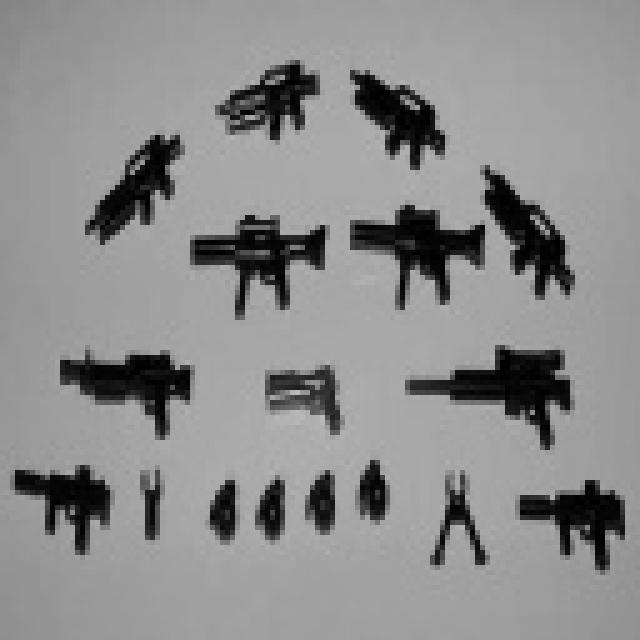Rifle: (314, 198, 504, 336), (177, 179, 341, 338), (463, 134, 599, 316), (39, 315, 221, 451), (384, 338, 594, 453), (326, 47, 472, 191), (0, 437, 129, 588), (70, 113, 194, 253), (490, 465, 640, 580), (200, 42, 338, 164), (256, 337, 354, 445)
